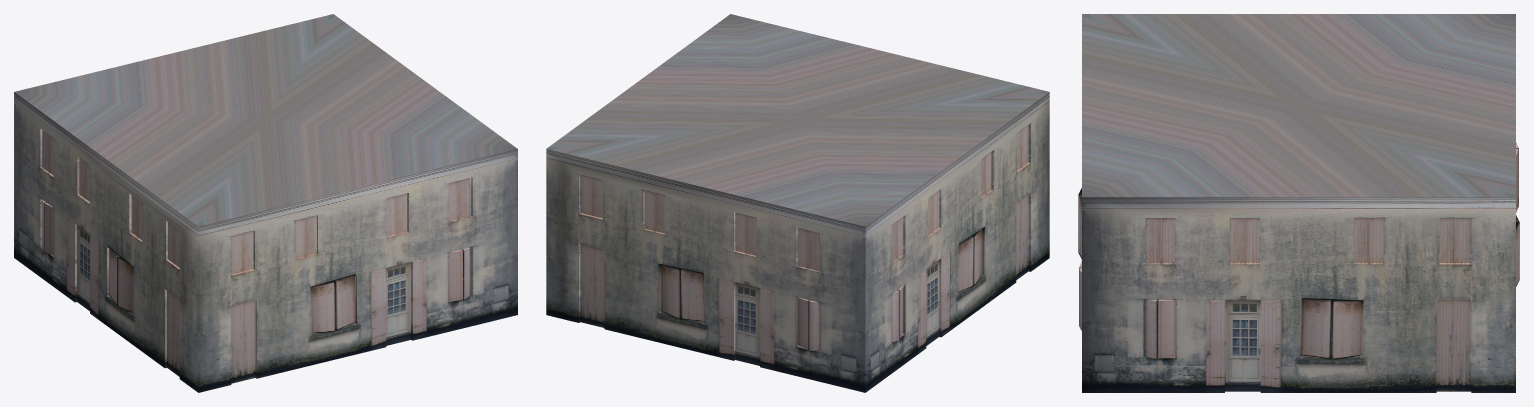
Rendered from building11.FBX.
3 renders of one model, left to right at view 1: azimuth 30°, elevation 25°; view 2: azimuth 150°, elevation 25°; view 3: azimuth 270°, elevation 25°, orthographic. The views are drawn at different scales.
Visible parts, largest first — view 1: dirt house; view 2: dirt house; view 3: dirt house.
Boxes of the visible parts, x1,y1,x2,y2 form: dirt house: (14,14,517,392); dirt house: (546,14,1049,392); dirt house: (1078,14,1519,392).
Bounding box in the file's own units: 2570 × 1257 × 2570.
